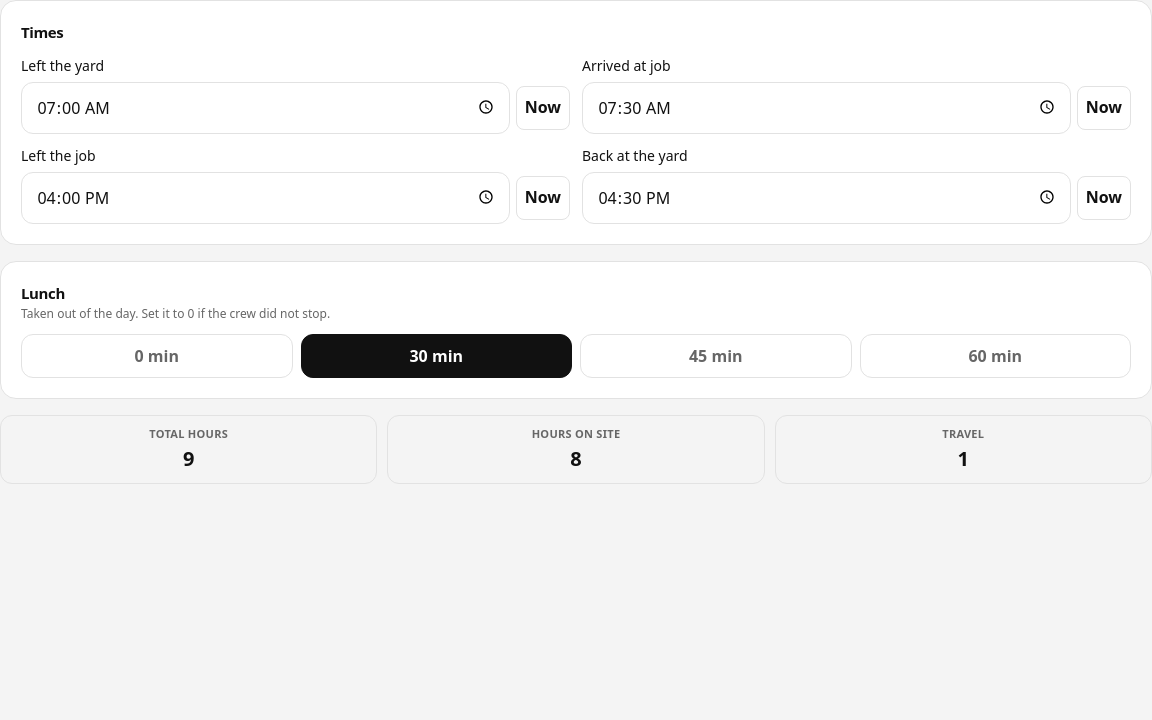
it: times that contradict each other › marks only the offending field, not the whole form
Replace the text in the time field labelled "Arrived at job" with "05:00": (826,108) [582,82,1071,134]
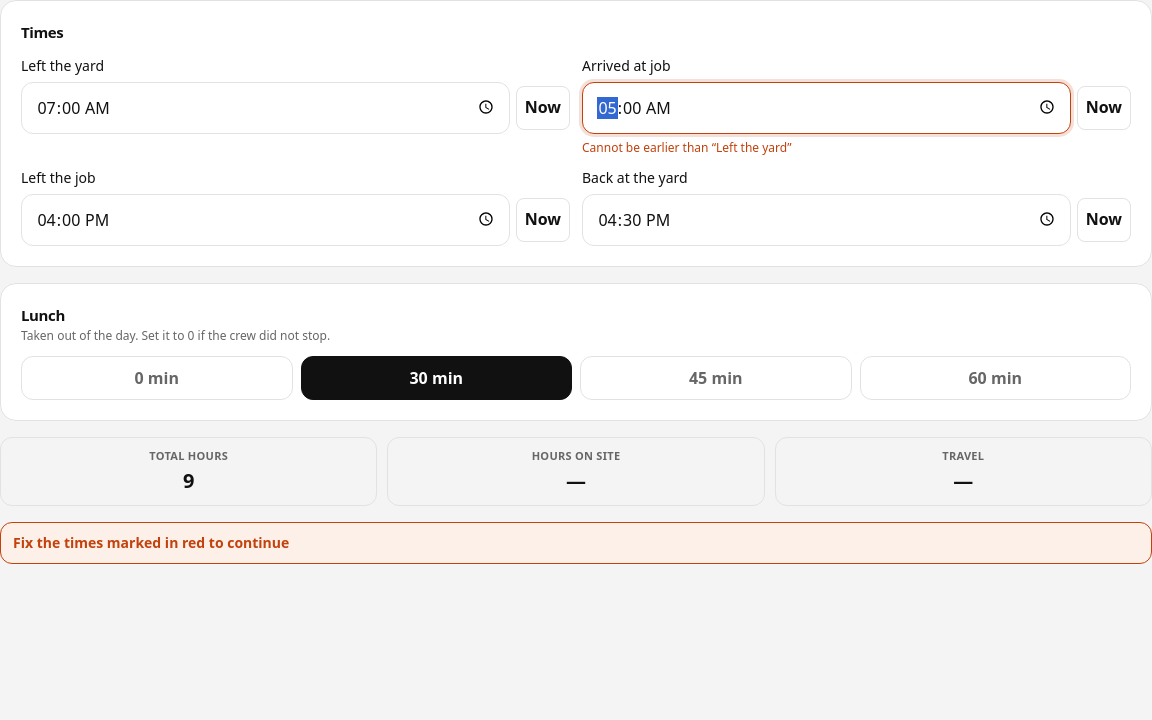
Check: the number of messages is 1, box [582,138,792,156]
